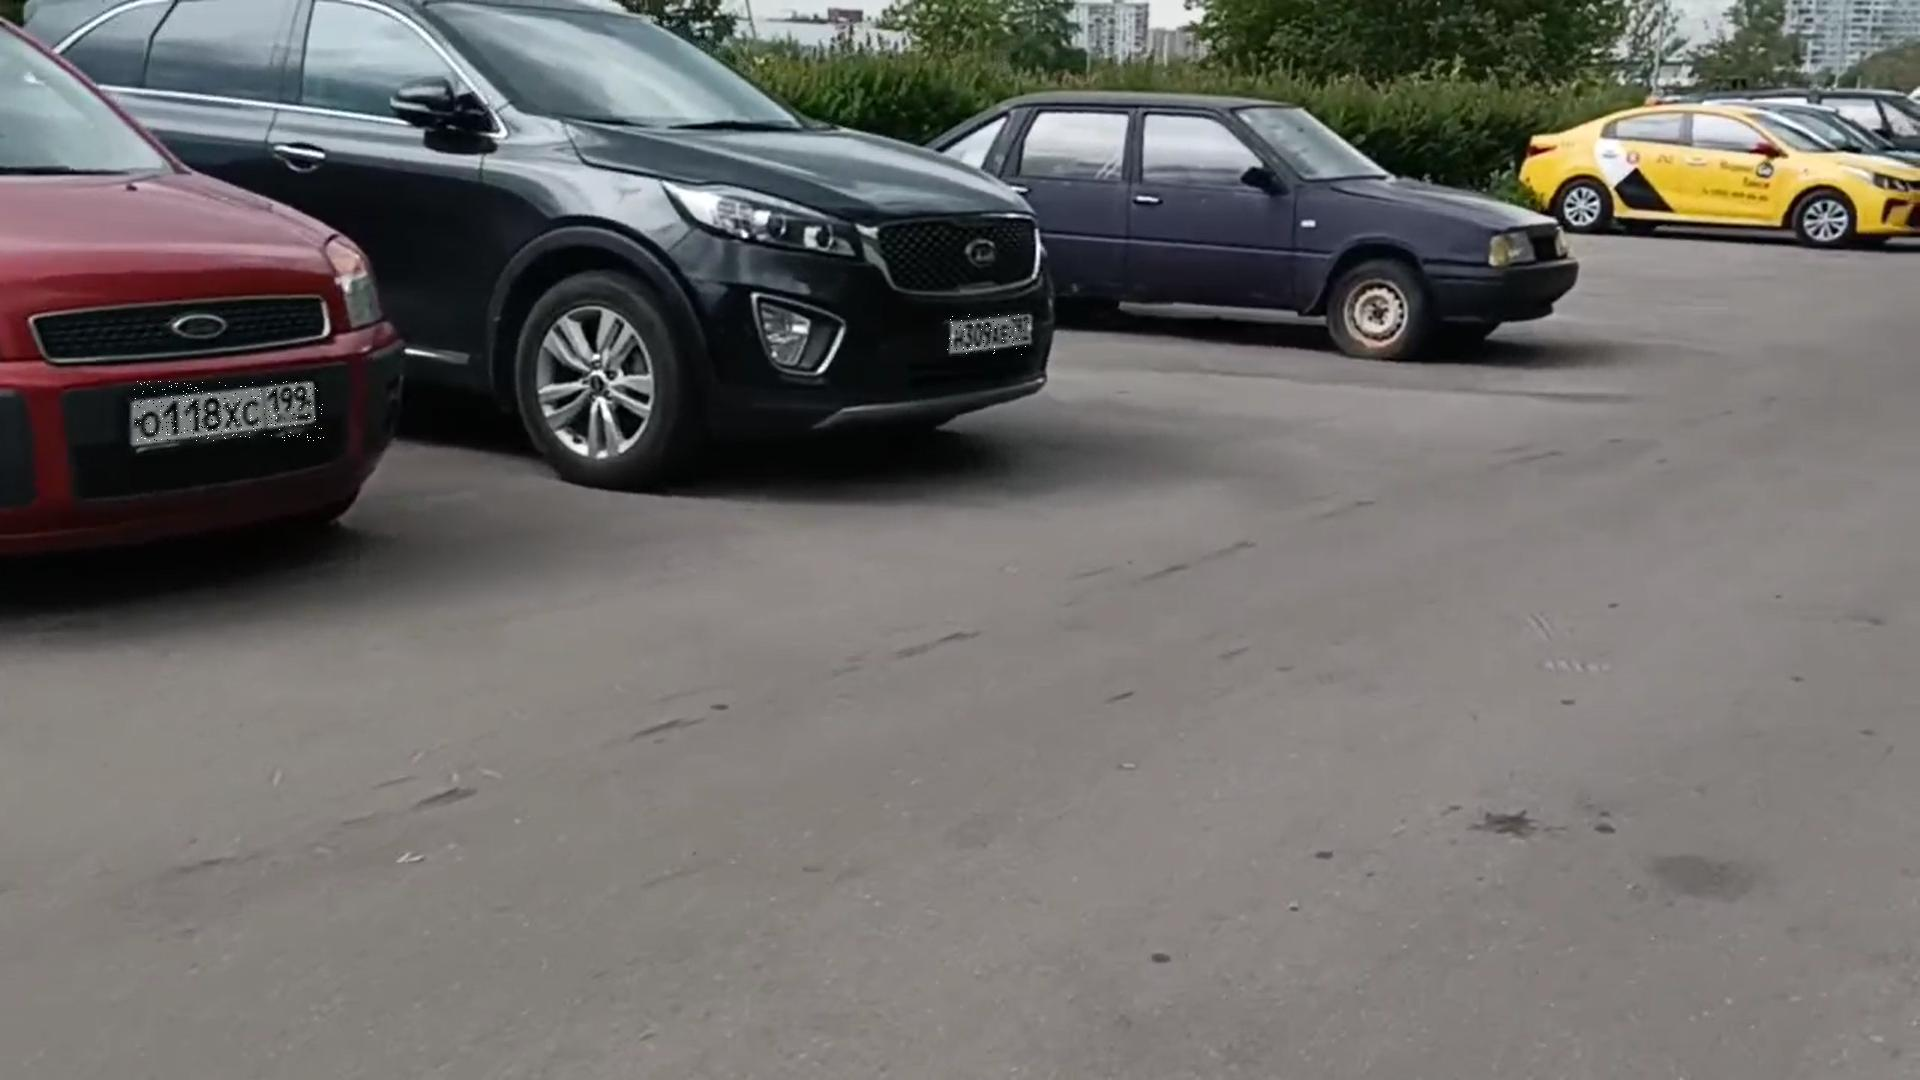plate: (136, 383, 326, 443), (946, 316, 1030, 357)
